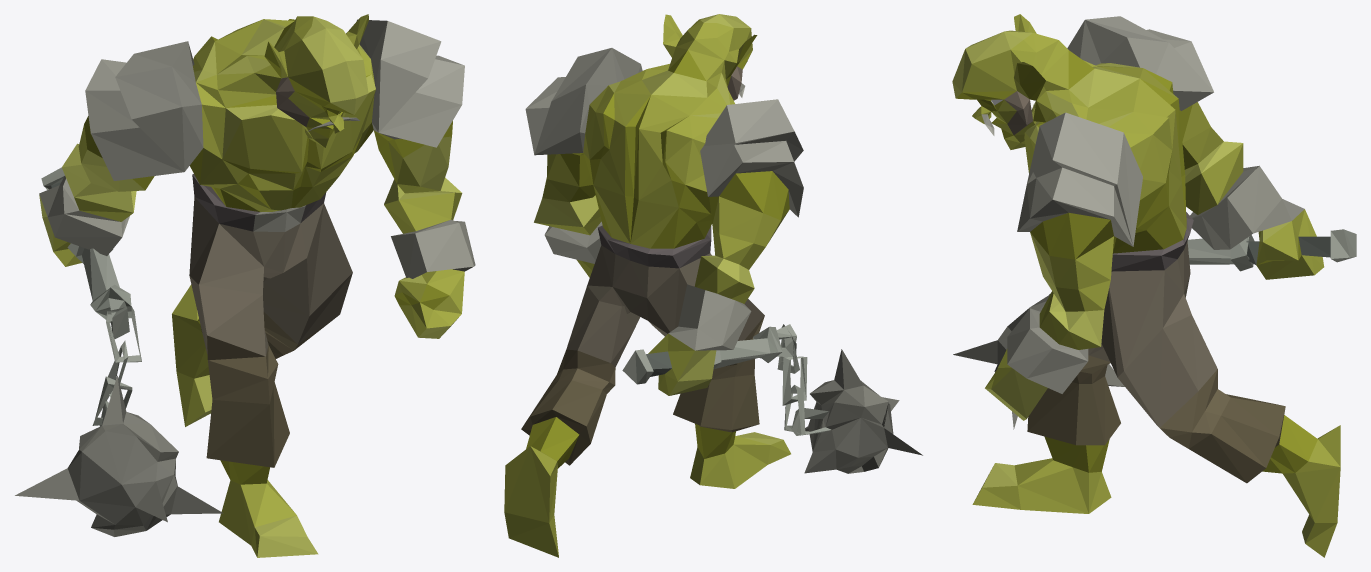
File: strongstack.glb
3 views of the same model, side by side, from view 1: azimuth 30°, elevation 25°; view 2: azimuth 150°, elevation 25°; view 3: azimuth 270°, elevation 25° (orthographic). The views are drawn at different scales.
Bounding box in the file's own units: 152 × 171 × 125.
Materials: 2 (2 with a texture image).
